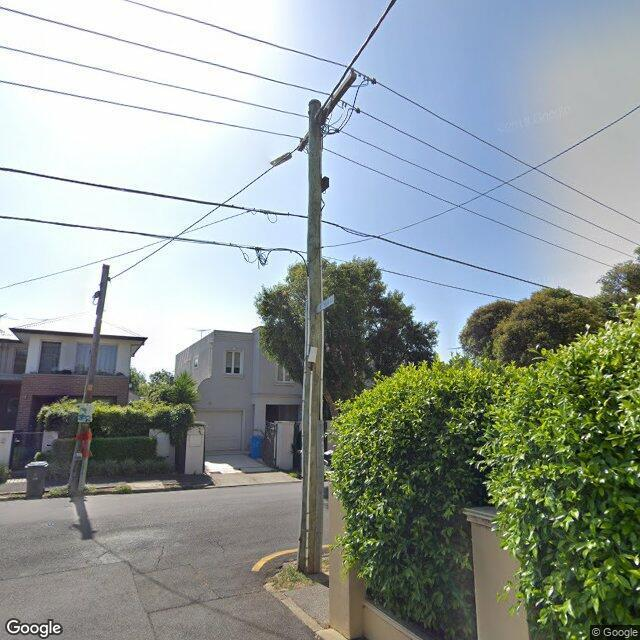crossarm: (298, 70, 378, 152)
timber-pole: (296, 99, 324, 575), (68, 263, 110, 491)
